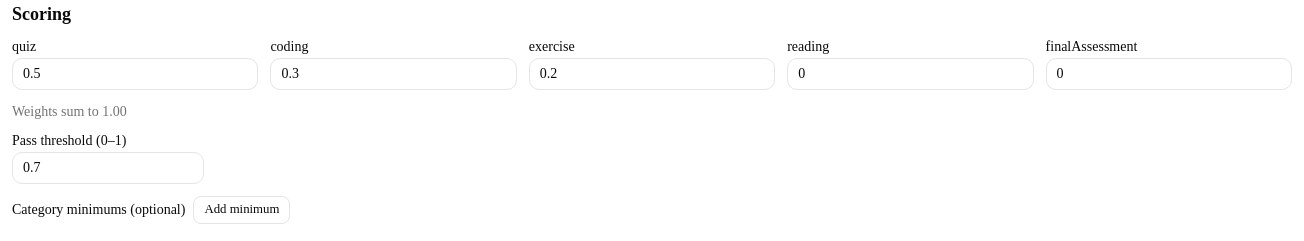
ScoringEditor › edits a weight, warns when the sum breaks 1, and clears when it balances
expect the text "weights must sum to 1" is not shown: met
Replace the text in the number field named "quiz weight" with "0.6" at x=135, y=74, box [12, 58, 258, 90]
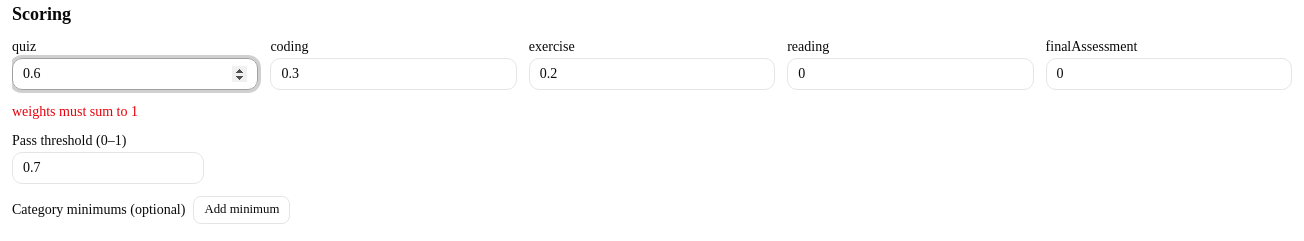
expect the text "weights must sum to 1" is shown: met, box [12, 104, 138, 119]
Replace the text in the number field named "coding weight" with "0.2" at x=394, y=74, box [270, 58, 517, 90]
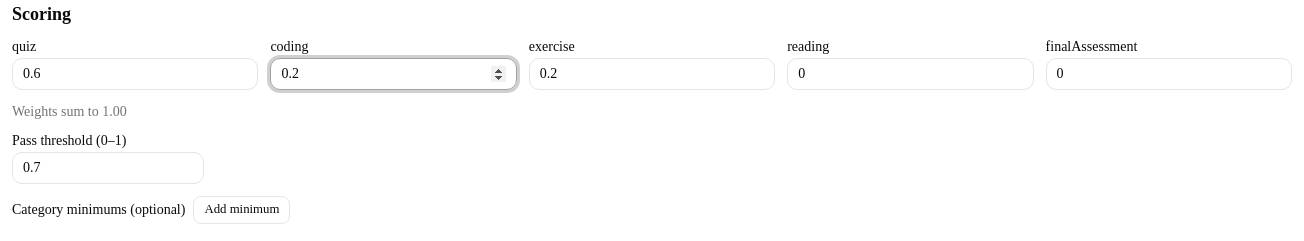
expect the text "weights must sum to 1" is gone: met
